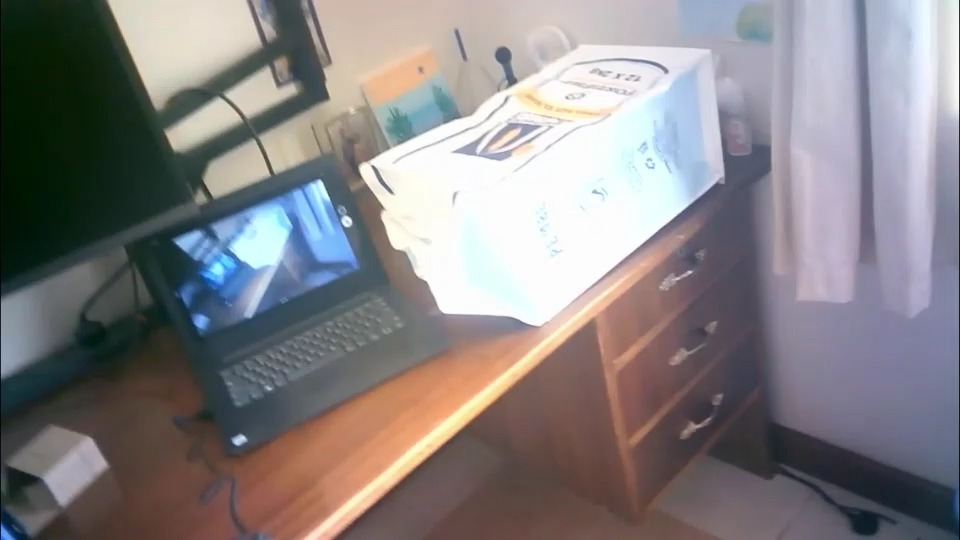wheat_flour_blue_label: (360, 44, 722, 324)
